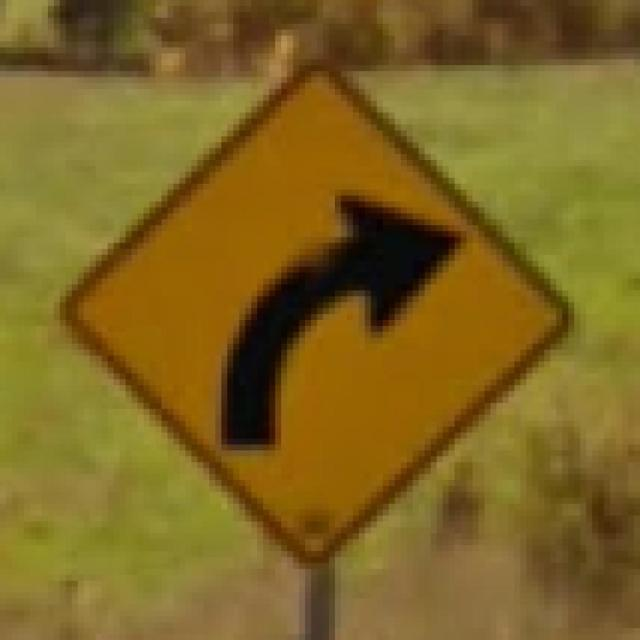Tikungan Ke Kanan: (30, 35, 580, 569)
